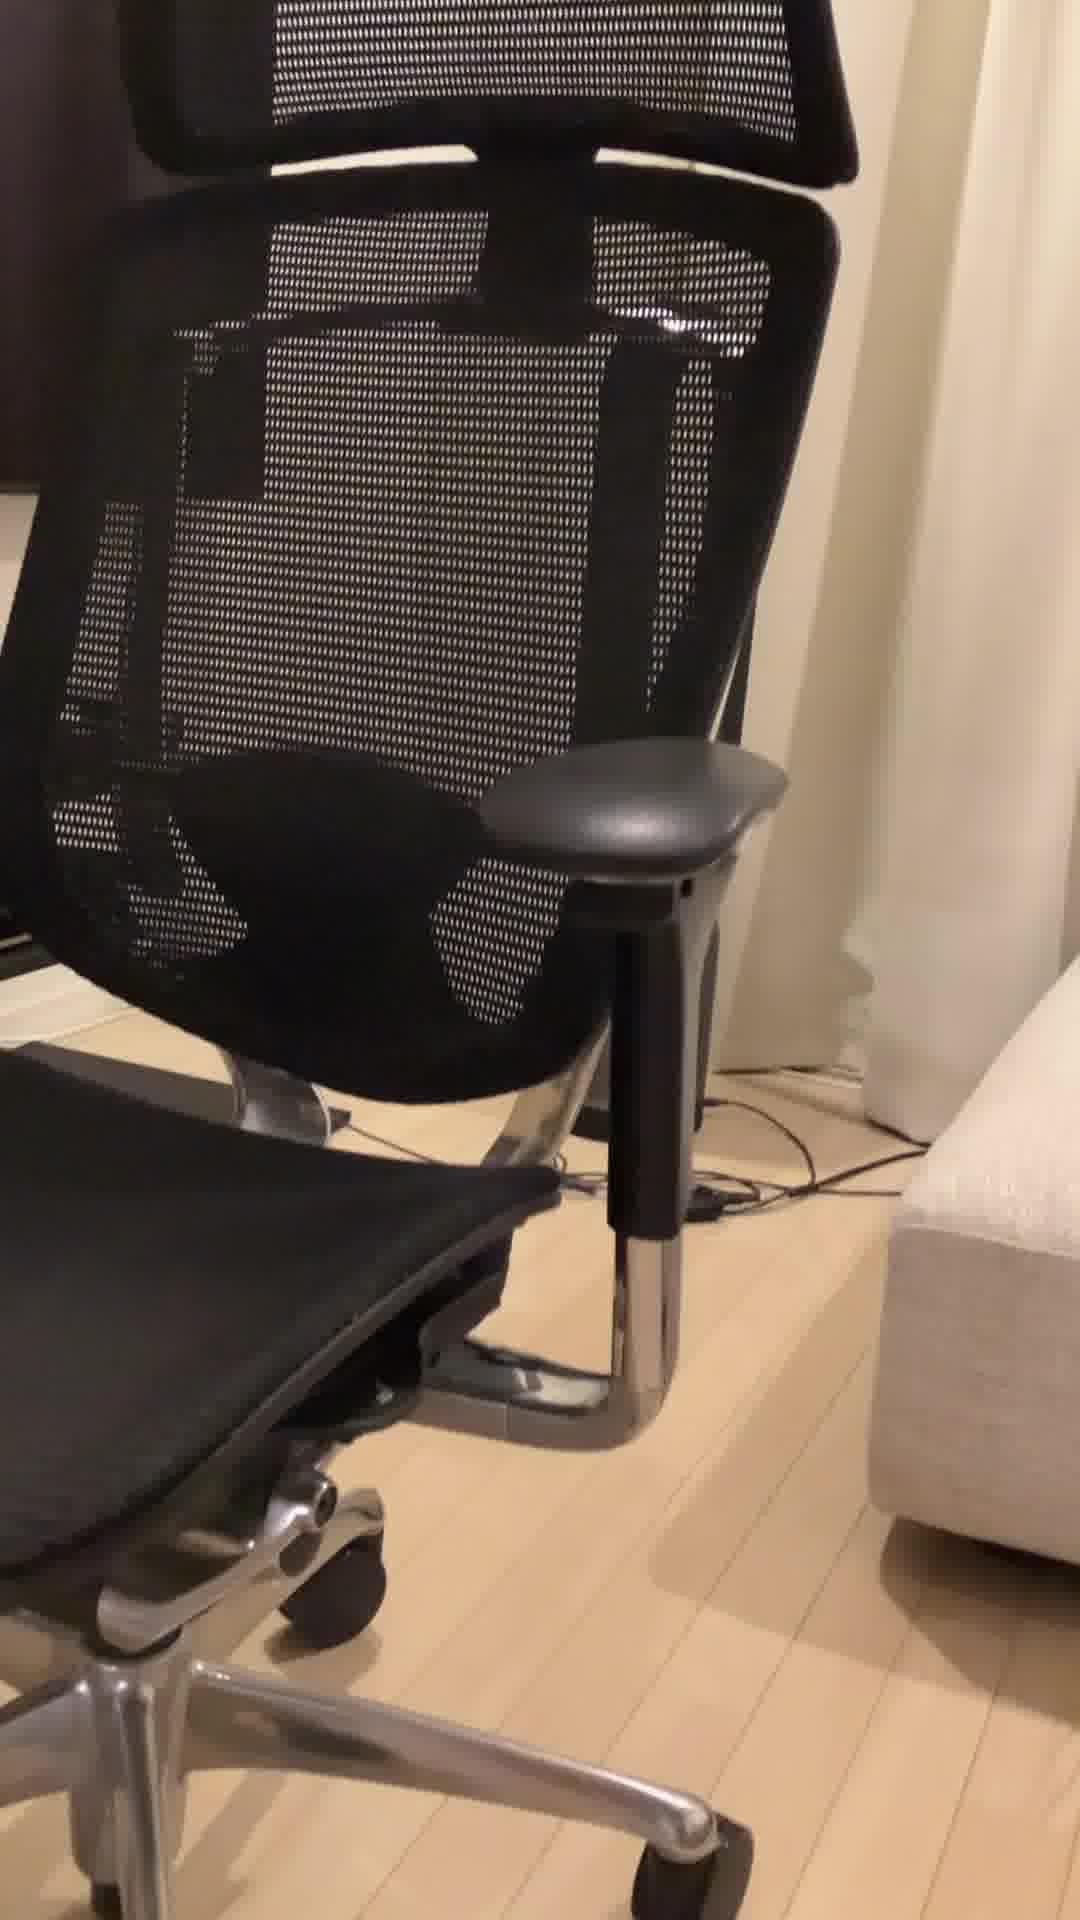okamura-contessa: (0, 0, 866, 1920)
